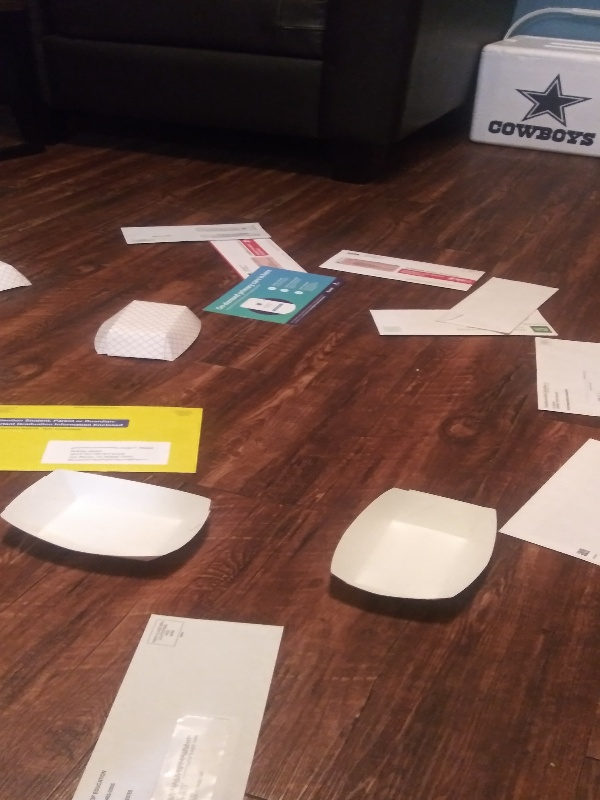plate: (324, 481, 505, 623), (1, 463, 215, 574), (91, 297, 205, 365), (1, 255, 35, 297)
